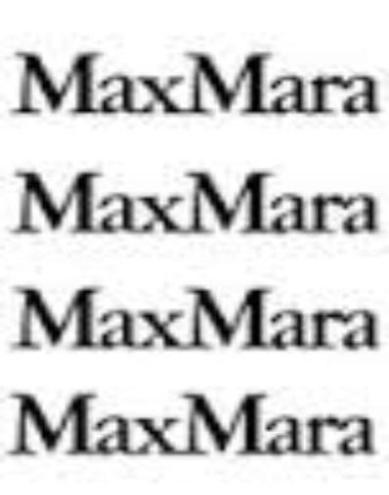MAX-MARA: (9, 276, 375, 354), (16, 157, 380, 232), (6, 387, 374, 457), (11, 50, 378, 120)
